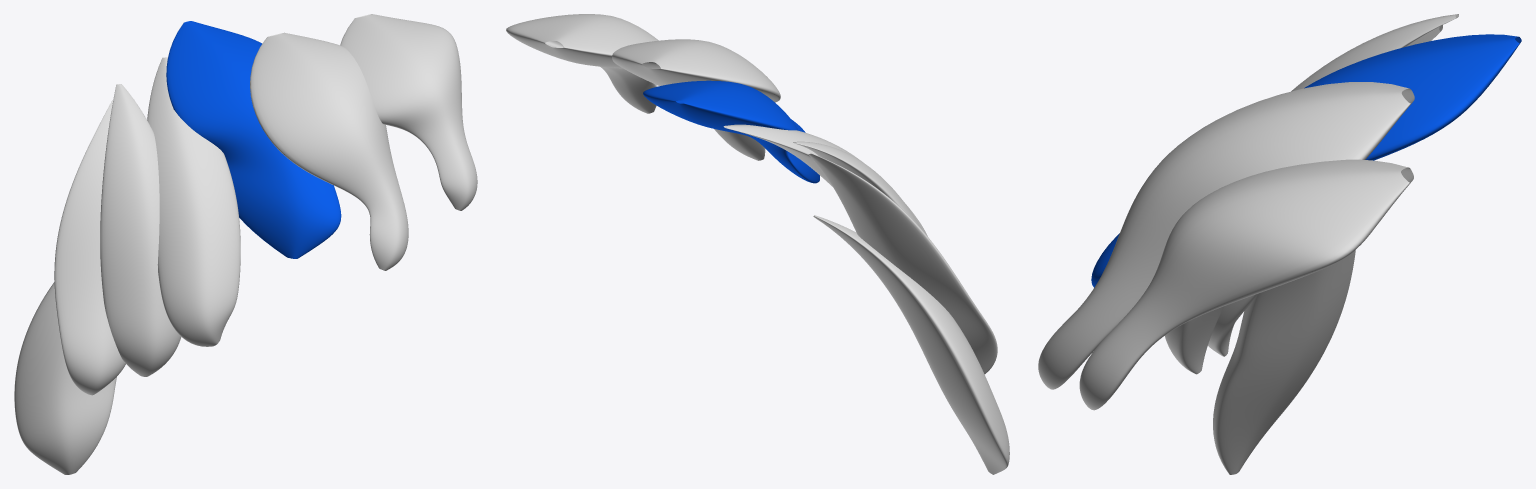
Rendered from HairTest.fbx.
3 renders of one model, left to right at view 1: azimuth 30°, elevation 25°; view 2: azimuth 150°, elevation 25°; view 3: azimuth 270°, elevation 25°, orthographic. The views are drawn at different scales.
Parts seen in each view (by area): view 1: NurbsPath.001, NurbsPath.002, NurbsPath.003, NurbsPath.004, NurbsPath.007, NurbsPath.005, NurbsPath.006; view 2: NurbsPath.006, NurbsPath.005, NurbsPath.007, NurbsPath.001, NurbsPath.002, NurbsPath.003, NurbsPath.004; view 3: NurbsPath.007, NurbsPath.001, NurbsPath.006, NurbsPath.002, NurbsPath.004, NurbsPath.005.
Boxes of the visible parts, left/top/right/bottom form: NurbsPath.001: left=250, top=32, right=408, bottom=270; NurbsPath.002: left=166, top=21, right=341, bottom=258; NurbsPath.003: left=147, top=57, right=240, bottom=346; NurbsPath.004: left=100, top=84, right=181, bottom=376; NurbsPath.007: left=340, top=14, right=477, bottom=210; NurbsPath.005: left=54, top=100, right=125, bottom=395; NurbsPath.006: left=14, top=282, right=116, bottom=474; NurbsPath.006: left=813, top=215, right=1009, bottom=474; NurbsPath.005: left=808, top=153, right=997, bottom=374; NurbsPath.007: left=506, top=14, right=660, bottom=113; NurbsPath.001: left=612, top=39, right=780, bottom=160; NurbsPath.002: left=643, top=80, right=819, bottom=183; NurbsPath.003: left=723, top=124, right=927, bottom=236; NurbsPath.004: left=793, top=141, right=922, bottom=230; NurbsPath.007: left=1079, top=159, right=1413, bottom=410; NurbsPath.001: left=1038, top=82, right=1414, bottom=389; NurbsPath.006: left=1213, top=250, right=1355, bottom=474; NurbsPath.002: left=1091, top=34, right=1521, bottom=287; NurbsPath.004: left=1165, top=14, right=1458, bottom=374; NurbsPath.005: left=1208, top=25, right=1442, bottom=356.
Size of the model in its own units: 52.36 by 39.26 by 28.41.
